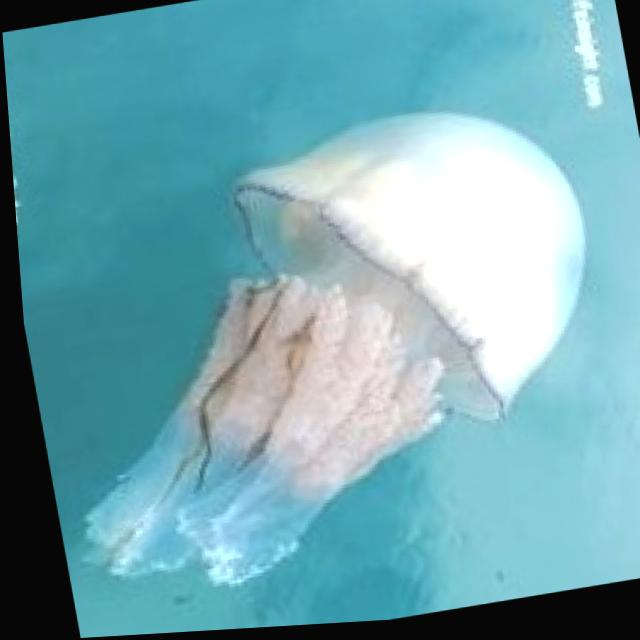Jellyfish: (9, 93, 635, 615)
